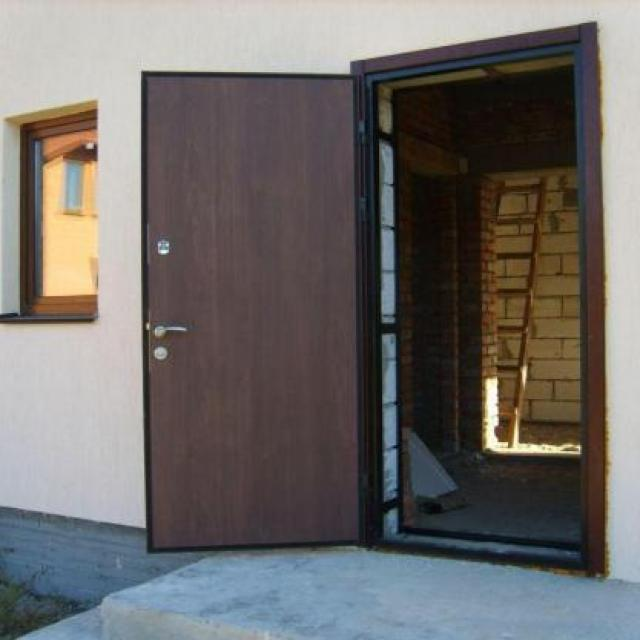open: (144, 36, 592, 562)
